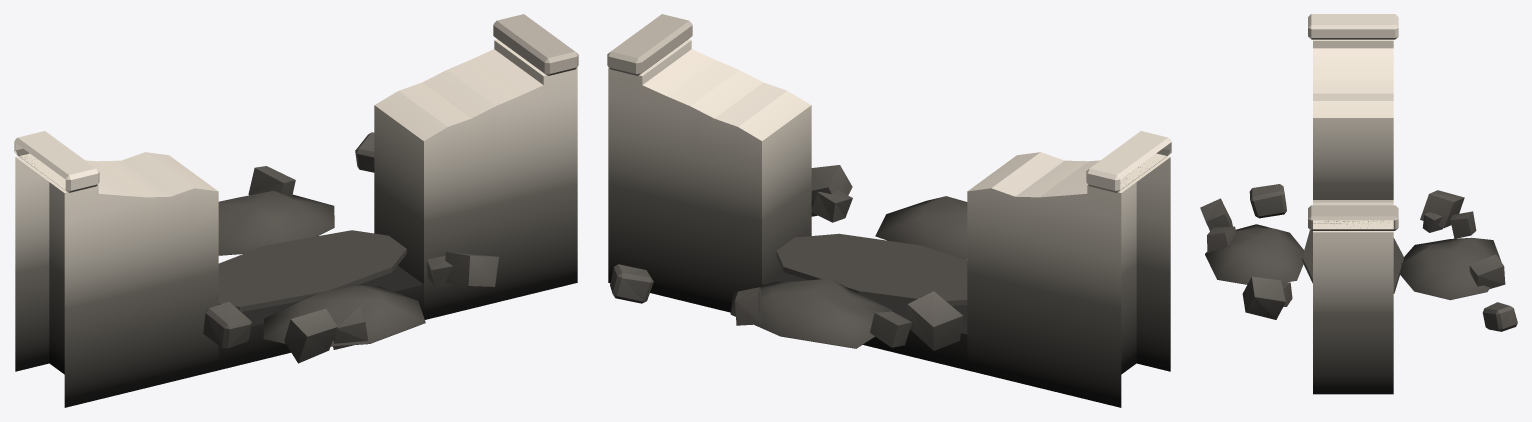
The model's file is SM_VKI_Wall_Dungeon_Breach_300_Cut.fbx.
3 views of the same model, side by side, from view 1: azimuth 30°, elevation 25°; view 2: azimuth 150°, elevation 25°; view 3: azimuth 270°, elevation 25° (orthographic). The views are drawn at different scales.
Visible parts, largest first — view 1: SM_VKI_Wall_Dungeon_Breach_300_Cut.001; view 2: SM_VKI_Wall_Dungeon_Breach_300_Cut.001; view 3: SM_VKI_Wall_Dungeon_Breach_300_Cut.001.
Boxes of the visible parts, left/top/right/bottom form: SM_VKI_Wall_Dungeon_Breach_300_Cut.001: left=14, top=14, right=578, bottom=407; SM_VKI_Wall_Dungeon_Breach_300_Cut.001: left=607, top=14, right=1171, bottom=407; SM_VKI_Wall_Dungeon_Breach_300_Cut.001: left=1200, top=14, right=1517, bottom=394.
Bounding box in the file's own units: 3 × 1.3 × 1.97.
